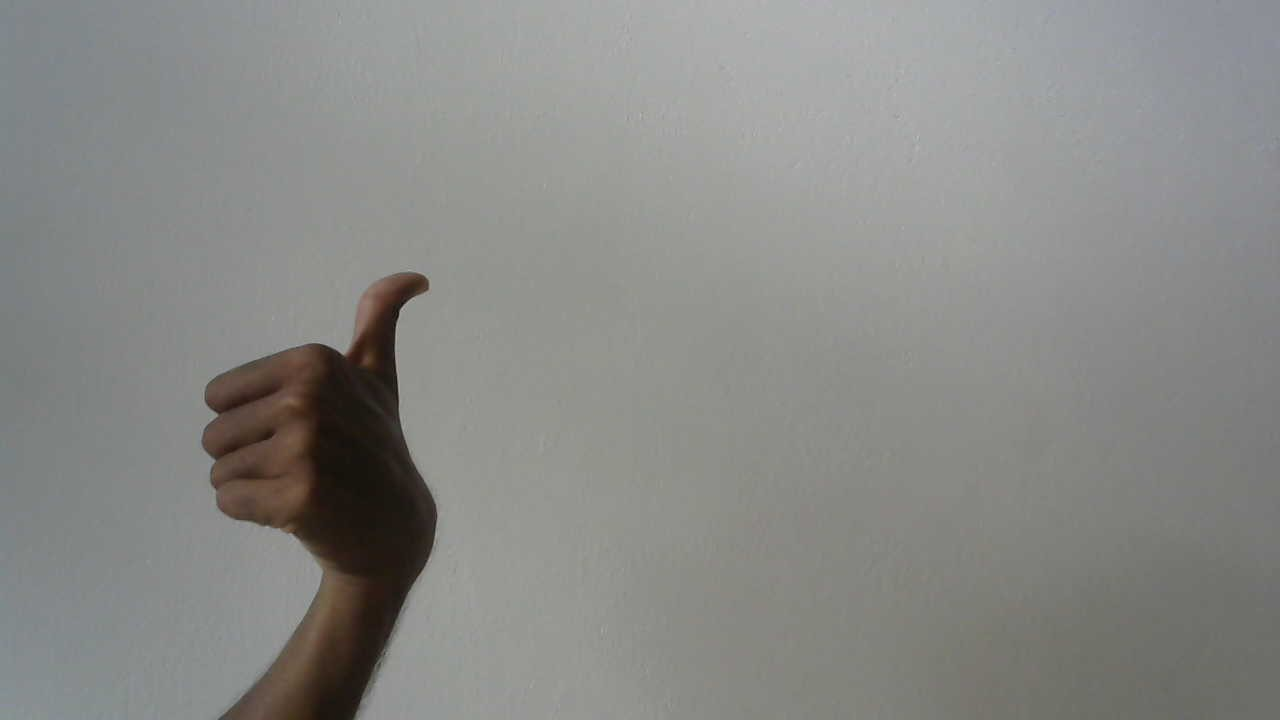thumbsup: (192, 262, 476, 621)
